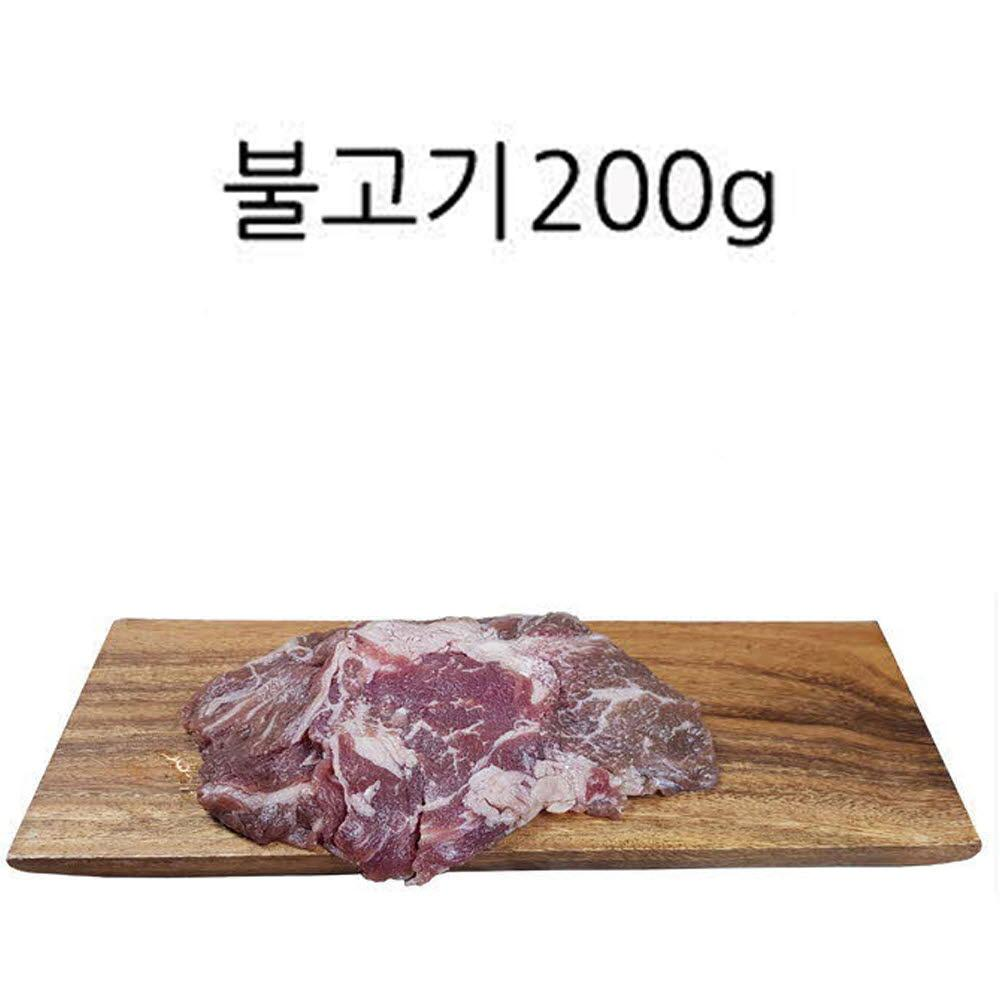beef: (370, 810, 1000, 1000)
